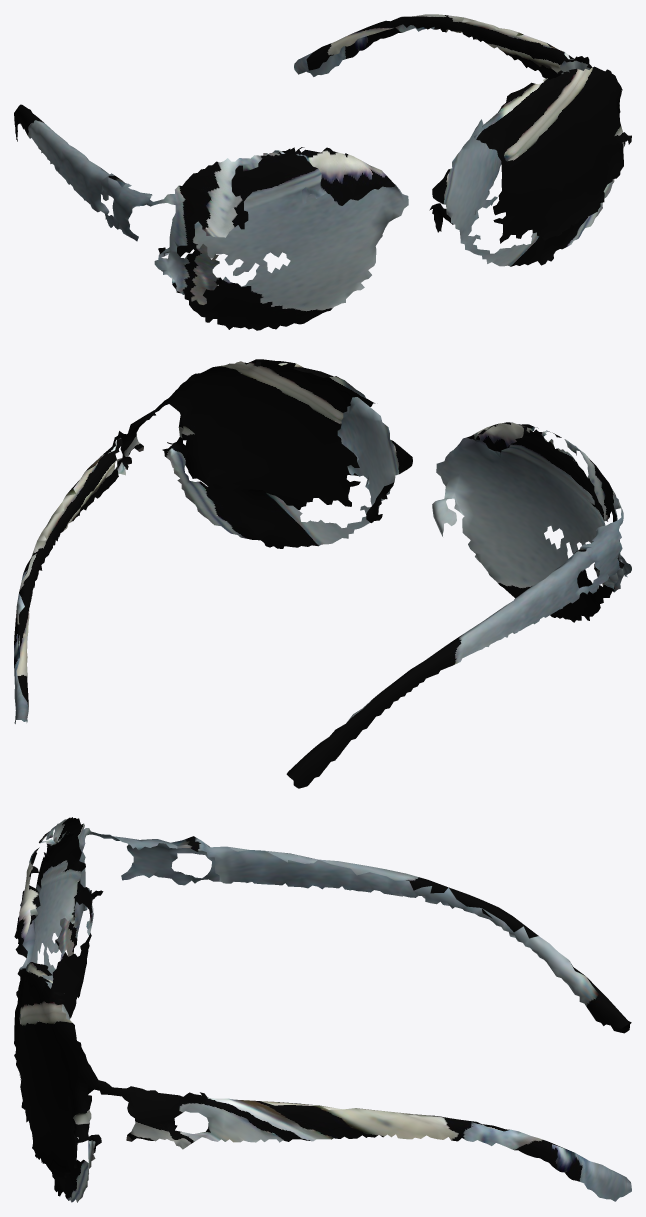
Rendered from scan_align.obj.
3 views of the same model, one above another, from view 1: azimuth 30°, elevation 25°; view 2: azimuth 150°, elevation 25°; view 3: azimuth 270°, elevation 25° (orthographic). The views are drawn at different scales.
Bounding box in the file's own units: 0.1512 × 0.0546 × 0.1452.
